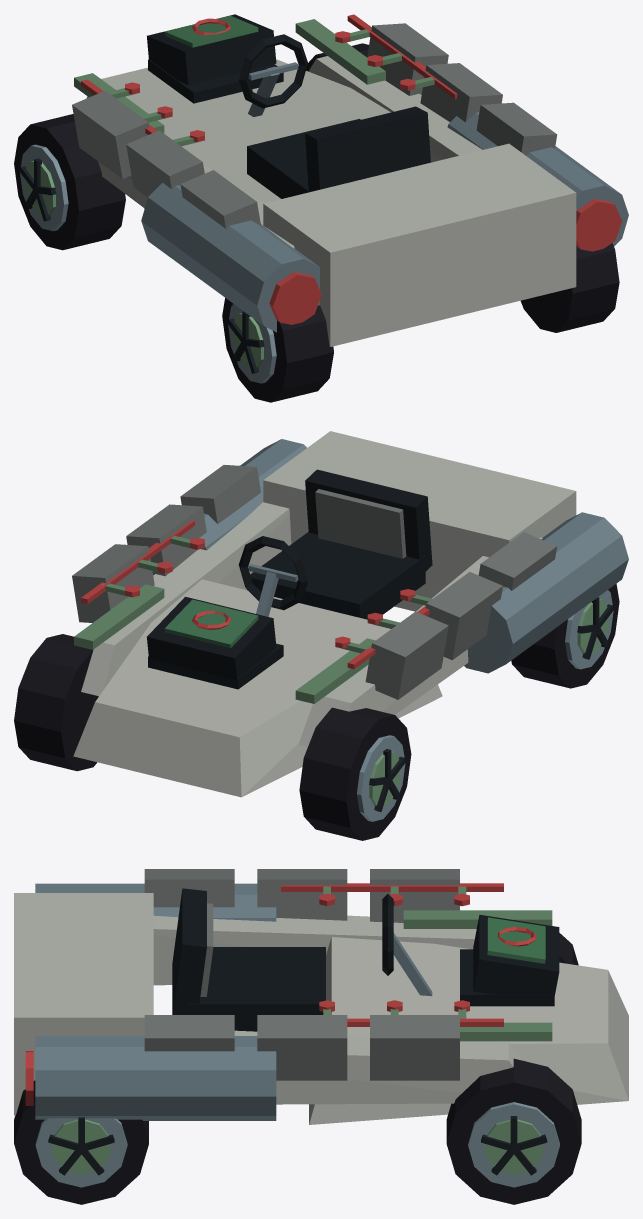
File: kart.glb
The picture shows the model from 3 angles, top to bottom: view 1: azimuth 30°, elevation 25°; view 2: azimuth 150°, elevation 25°; view 3: azimuth 270°, elevation 25°; orthographic projection. The views are drawn at different scales.
Parts seen in each view (by area): view 1: identity-lab-pod-lab-pod-segmented-shell, identity-lab-pod-motif-armor, identity-lab-pod-driver-cockpit, wheel-front-left, wheel-rear-left, identity-lab-pod-motif-scanner, wheel-rear-right, identity-lab-pod-motif-circuit; view 2: identity-lab-pod-lab-pod-segmented-shell, identity-lab-pod-motif-armor, identity-lab-pod-driver-cockpit, wheel-front-left, wheel-front-right, identity-lab-pod-motif-scanner, wheel-rear-left, identity-lab-pod-motif-circuit; view 3: identity-lab-pod-lab-pod-segmented-shell, identity-lab-pod-motif-armor, wheel-front-right, identity-lab-pod-driver-cockpit, wheel-rear-right, identity-lab-pod-motif-scanner, identity-lab-pod-motif-circuit.
Part boxes in pixels (box(x1,y1,x2,y2)): identity-lab-pod-lab-pod-segmented-shell: box(74, 19, 628, 346); identity-lab-pod-motif-armor: box(72, 23, 557, 228); identity-lab-pod-driver-cockpit: box(238, 34, 430, 198); wheel-front-left: box(14, 114, 125, 250); wheel-rear-left: box(222, 298, 333, 402); identity-lab-pod-motif-scanner: box(147, 14, 276, 84); wheel-rear-right: box(520, 243, 619, 332); identity-lab-pod-motif-circuit: box(81, 14, 457, 146); identity-lab-pod-lab-pod-segmented-shell: box(73, 431, 628, 797); identity-lab-pod-motif-armor: box(72, 465, 557, 699); identity-lab-pod-driver-cockpit: box(238, 469, 432, 619); wheel-front-left: box(299, 707, 411, 840); wheel-front-right: box(14, 634, 98, 771); identity-lab-pod-motif-scanner: box(147, 596, 276, 680); wheel-rear-left: box(511, 584, 619, 688); identity-lab-pod-motif-circuit: box(81, 520, 432, 669); identity-lab-pod-lab-pod-segmented-shell: box(14, 883, 628, 1124); identity-lab-pod-motif-armor: box(144, 869, 459, 1080); wheel-front-right: box(446, 1058, 581, 1204); identity-lab-pod-driver-cockpit: box(172, 888, 432, 1031); wheel-rear-right: box(14, 1080, 148, 1204); identity-lab-pod-motif-scanner: box(473, 914, 559, 995); identity-lab-pod-motif-circuit: box(281, 883, 503, 1026).
Size of the model in its own units: 1.98 by 1.09 by 2.73.
